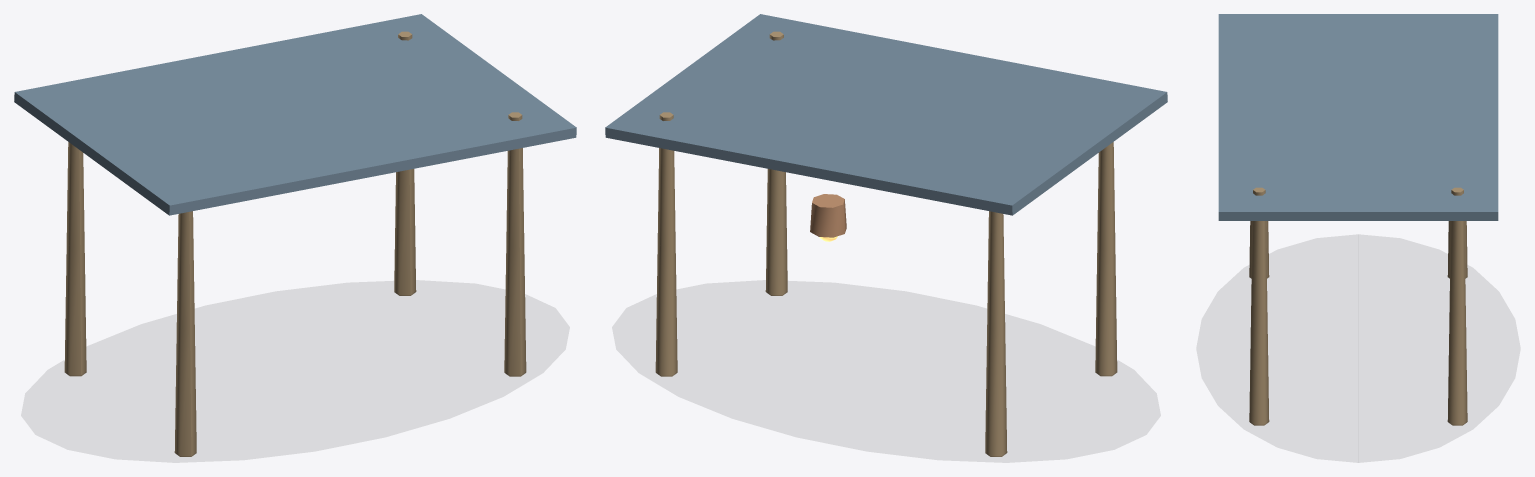
The model's file is trader_awning.glb.
3 views of the same model, side by side, from view 1: azimuth 30°, elevation 25°; view 2: azimuth 150°, elevation 25°; view 3: azimuth 270°, elevation 25° (orthographic). The views are drawn at different scales.
Visible parts, largest first — view 1: cloth_roof, awning_pole_2, awning_pole_3, awning_pole_0, awning_pole_1; view 2: cloth_roof, awning_pole_0, awning_pole_1, awning_pole_2, awning_pole_3, hanging_lamp; view 3: cloth_roof, awning_pole_1, awning_pole_3.
Part boxes in pixels (x1=…): cloth_roof: x1=14, y1=14, x2=576, y2=215; awning_pole_2: x1=174, y1=211, x2=196, y2=456; awning_pole_3: x1=504, y1=112, x2=526, y2=376; awning_pole_0: x1=64, y1=142, x2=86, y2=376; awning_pole_1: x1=394, y1=31, x2=416, y2=295; cloth_roof: x1=605, y1=14, x2=1167, y2=215; awning_pole_0: x1=985, y1=211, x2=1007, y2=456; awning_pole_1: x1=655, y1=112, x2=677, y2=376; awning_pole_2: x1=1095, y1=142, x2=1117, y2=376; awning_pole_3: x1=765, y1=31, x2=787, y2=295; hanging_lamp: x1=810, y1=194, x2=846, y2=237; cloth_roof: x1=1218, y1=14, x2=1498, y2=220; awning_pole_1: x1=1447, y1=187, x2=1467, y2=425; awning_pole_3: x1=1249, y1=187, x2=1269, y2=425.
Size of the model in its own units: 3 by 1.51 by 1.8.
